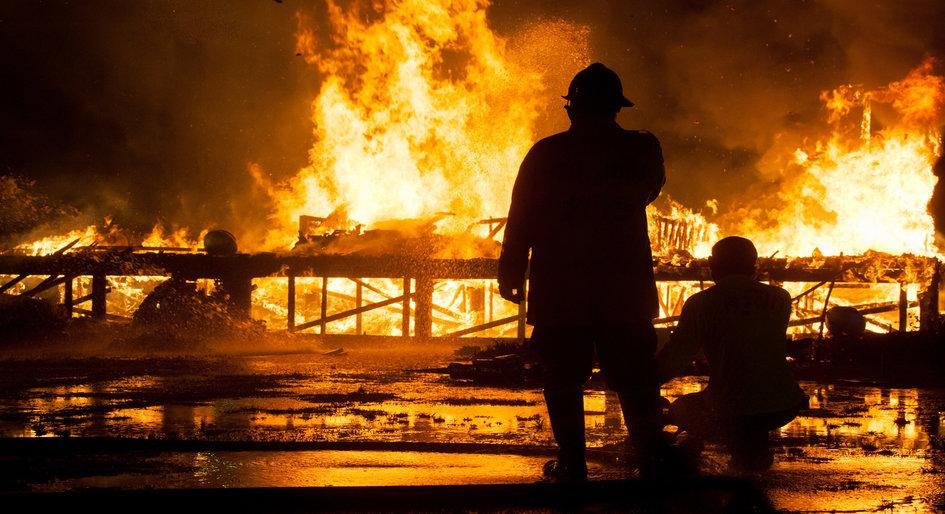Fire: (5, 7, 945, 368)
